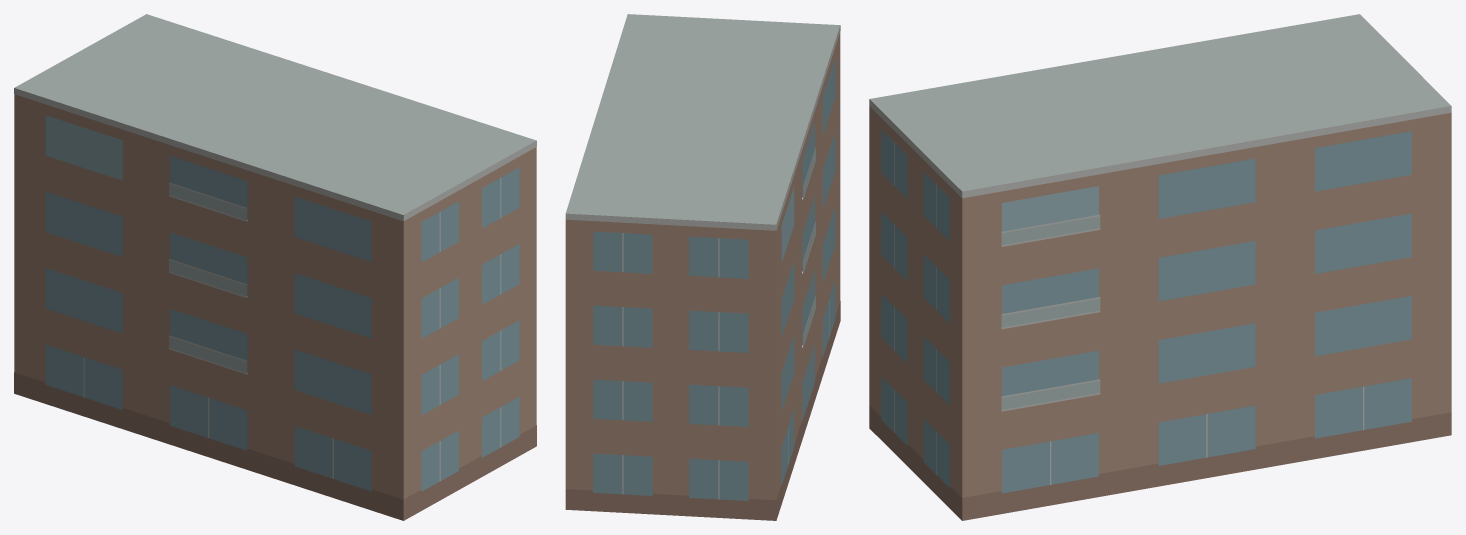
The model's file is survey-upis-32889245.glb.
3 views of the same model, side by side, from view 1: azimuth 30°, elevation 25°; view 2: azimuth 150°, elevation 25°; view 3: azimuth 270°, elevation 25° (orthographic). The views are drawn at different scales.
Visible parts, largest first — view 1: survey-upis-32889245.tmp; view 2: survey-upis-32889245.tmp; view 3: survey-upis-32889245.tmp.
Part boxes in pixels (bbox=[...]): survey-upis-32889245.tmp: bbox=[14, 14, 536, 520]; survey-upis-32889245.tmp: bbox=[565, 14, 840, 520]; survey-upis-32889245.tmp: bbox=[869, 14, 1451, 520].
Size of the model in its own units: 13.84 by 11.95 by 19.16.
